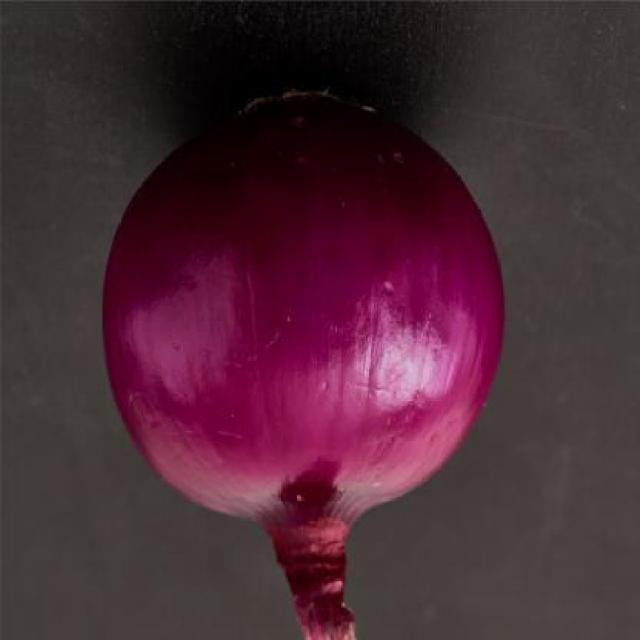onion: (100, 97, 508, 638)
